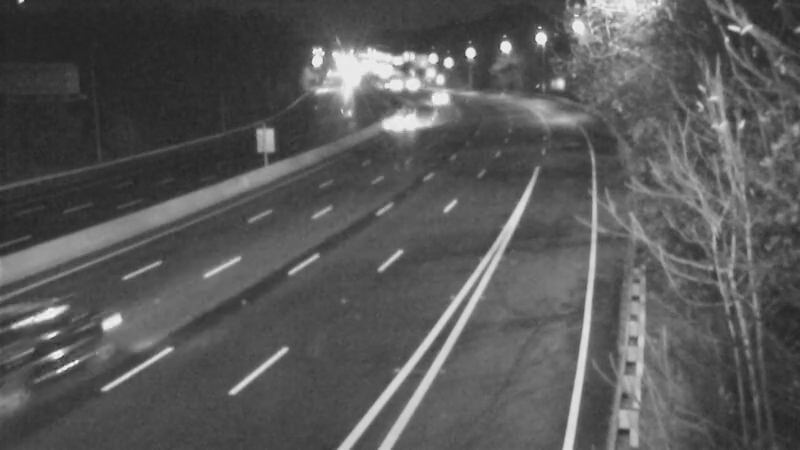vehicle: (1, 304, 96, 414), (414, 73, 464, 123), (370, 100, 420, 150)
